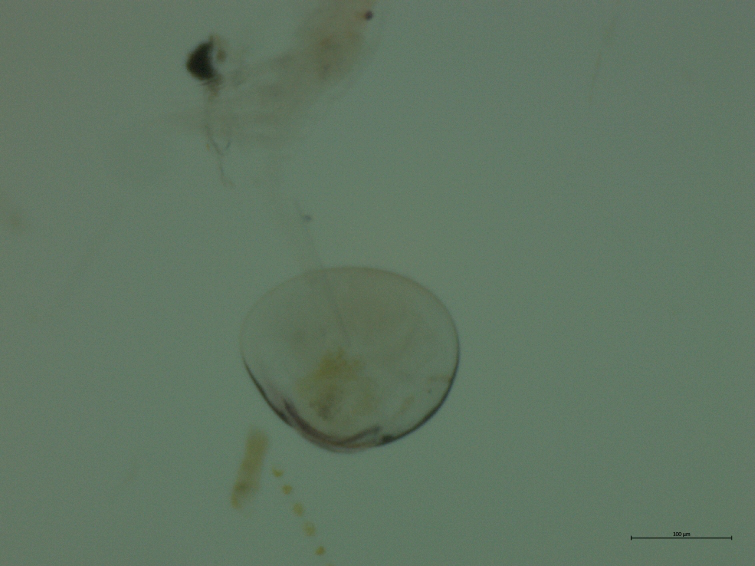oyster: (232, 262, 471, 459)
